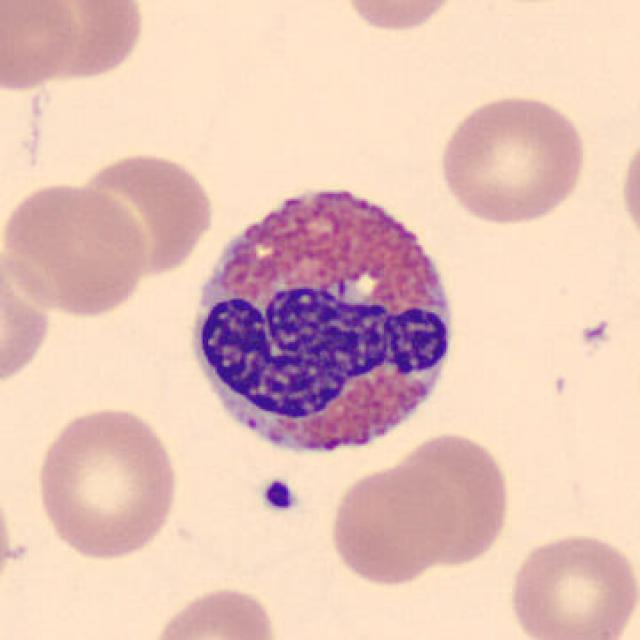Eosinophil: (175, 165, 470, 472)
Platelets: (258, 476, 300, 517)
RBC: (30, 402, 183, 562), (434, 90, 590, 227), (0, 180, 153, 319), (67, 147, 217, 280), (389, 428, 514, 570), (324, 460, 458, 587), (503, 529, 638, 640), (10, 0, 151, 86), (0, 234, 56, 389), (146, 582, 282, 640), (0, 0, 82, 95), (338, 0, 466, 35), (617, 124, 640, 255), (0, 471, 18, 606)
